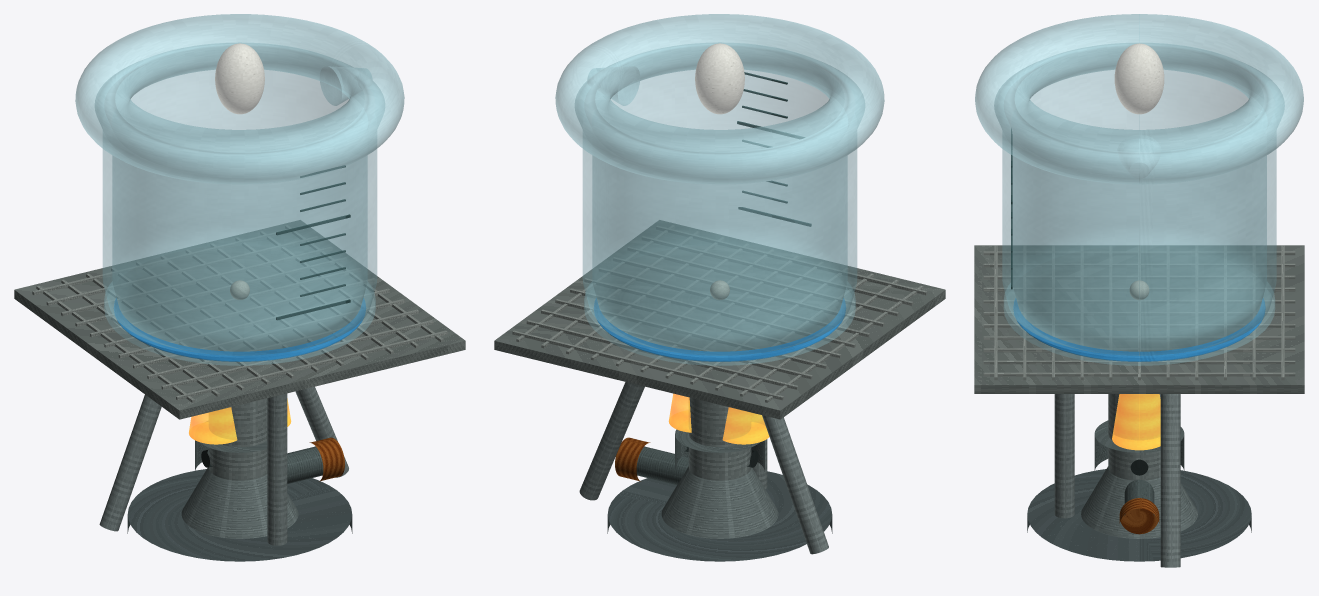
File: alat-33.glb
3 renders of one model, left to right at view 1: azimuth 30°, elevation 25°; view 2: azimuth 150°, elevation 25°; view 3: azimuth 270°, elevation 25°, orthographic.
Parts seen in each view (by area): view 1: beaker-35, torus-37, box-12, cylinder-0, cone-1, cylinder-36, cylinder-2, cylinder-10, liquidSurface-49, cylinder-9, steam-71, steam-72 (+27 smaller); view 2: beaker-35, torus-37, box-12, cylinder-0, cone-1, cylinder-36, cylinder-2, cylinder-9, liquidSurface-49, steam-71, steam-72, cylinder-11 (+27 smaller); view 3: beaker-35, torus-37, box-12, cylinder-0, cylinder-36, cylinder-11, cone-1, liquidSurface-49, steam-71, steam-72, cylinder-10, flame-52 (+18 smaller).
Part boxes in pixels (x1,y1,x2,y2): beaker-35: (95, 42, 384, 355); torus-37: (75, 14, 404, 184); box-12: (14, 220, 465, 419); cylinder-0: (127, 469, 352, 561); cone-1: (181, 467, 298, 538); cylinder-36: (104, 283, 375, 365); cylinder-2: (208, 398, 267, 480); cylinder-10: (267, 393, 287, 545); liquidSurface-49: (115, 299, 364, 361); cylinder-9: (99, 394, 161, 531); steam-71: (215, 44, 264, 113); steam-72: (215, 44, 264, 113); beaker-35: (575, 42, 864, 355); torus-37: (555, 14, 884, 184); box-12: (494, 220, 945, 419); cylinder-0: (607, 471, 832, 561); cone-1: (661, 466, 778, 538); cylinder-36: (584, 283, 855, 365); cylinder-2: (688, 397, 751, 480); cylinder-9: (762, 415, 828, 554); liquidSurface-49: (595, 299, 844, 361); steam-71: (695, 44, 744, 113); steam-72: (695, 44, 744, 113); cylinder-11: (579, 382, 644, 500); beaker-35: (994, 43, 1284, 355); torus-37: (975, 14, 1303, 184); box-12: (974, 245, 1304, 393); cylinder-0: (1027, 469, 1251, 561); cylinder-36: (1004, 282, 1274, 365); cylinder-11: (1160, 394, 1180, 567); cone-1: (1081, 466, 1197, 538); liquidSurface-49: (1014, 299, 1264, 361); steam-71: (1115, 43, 1163, 113); steam-72: (1115, 44, 1163, 113); cylinder-10: (1054, 394, 1074, 518); flame-52: (1112, 394, 1160, 450).
Bounding box in the file's own units: 2.65 × 4.33 × 2.65.
Materials: 80 (80 with a texture image).
